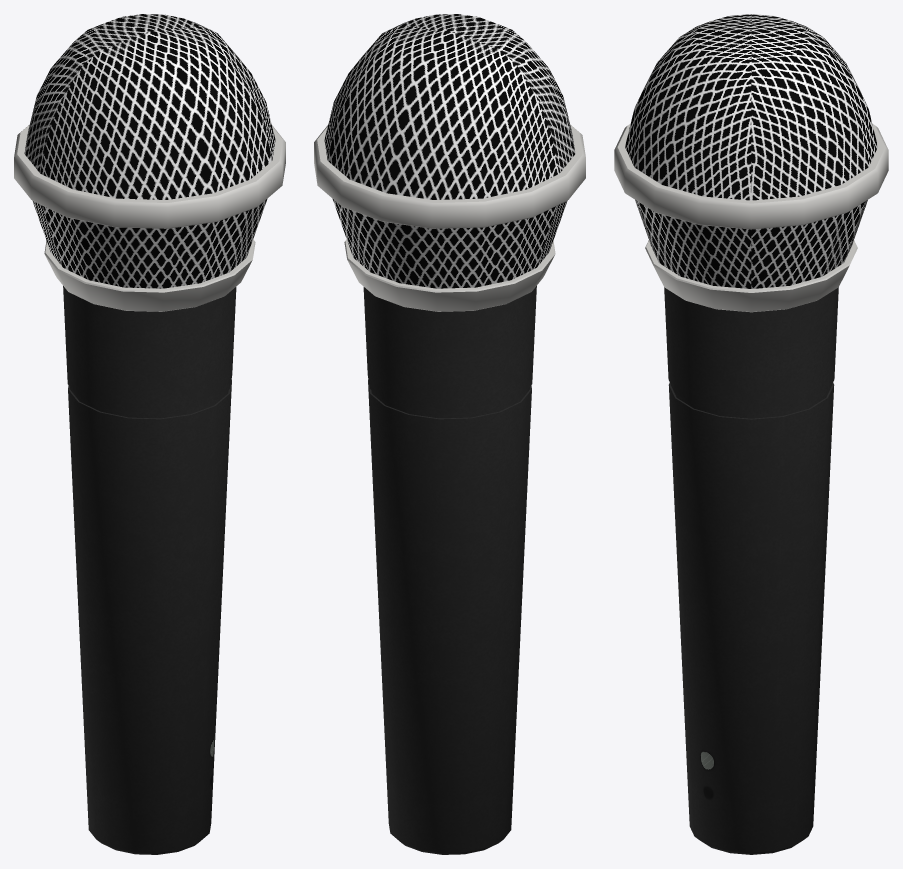
The model's file is Microphone01.FBX.
3 renders of one model, left to right at view 1: azimuth 30°, elevation 25°; view 2: azimuth 150°, elevation 25°; view 3: azimuth 270°, elevation 25°, orthographic.
Visible parts, largest first — view 1: Microphone01; view 2: Microphone01; view 3: Microphone01.
Part boxes in pixels (x1,y1,x2,y2): Microphone01: (14, 14, 285, 854); Microphone01: (314, 14, 585, 854); Microphone01: (614, 14, 888, 854).
Size of the model in its own units: 7.82 by 25.17 by 7.82.
